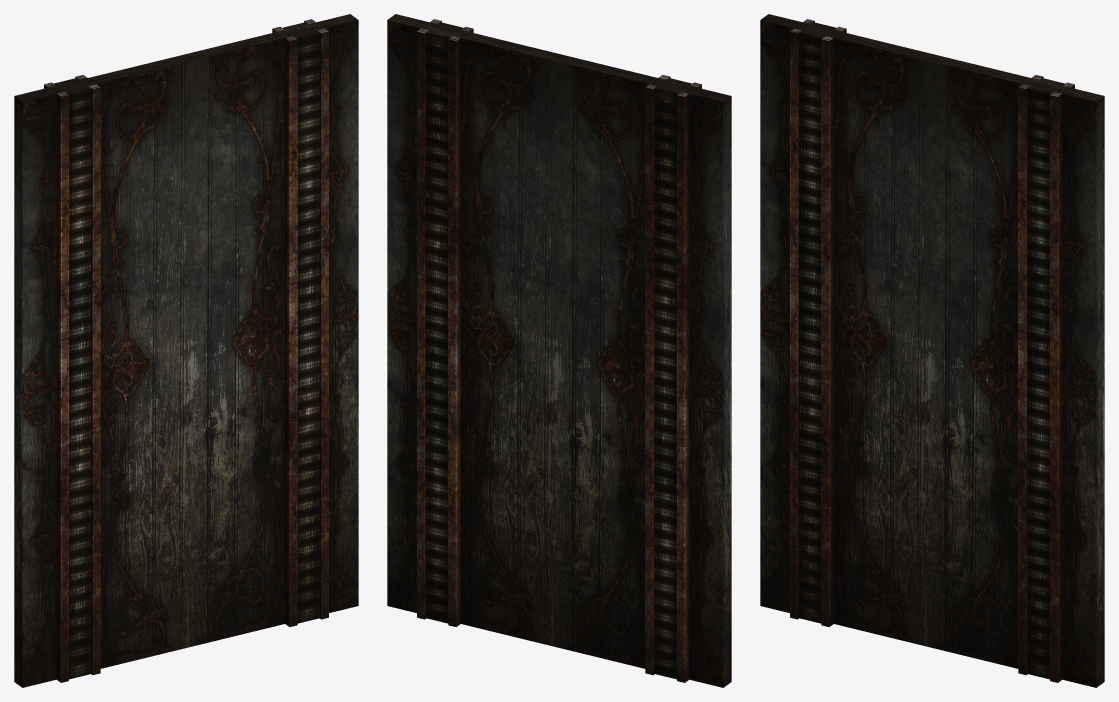
The model's file is wooden_slide_door.dae.
The picture shows the model from 3 angles, left to right: view 1: azimuth 30°, elevation 25°; view 2: azimuth 150°, elevation 25°; view 3: azimuth 330°, elevation 25°; orthographic projection.
Parts seen in each view (by area): view 1: pCube2; view 2: pCube2; view 3: pCube2.
Part boxes in pixels (left/top/right/bottom): pCube2: left=14, top=14, right=358, bottom=687; pCube2: left=387, top=14, right=731, bottom=687; pCube2: left=760, top=14, right=1104, bottom=687.
Size of the model in its own units: 1.8 by 3 by 0.1601.
